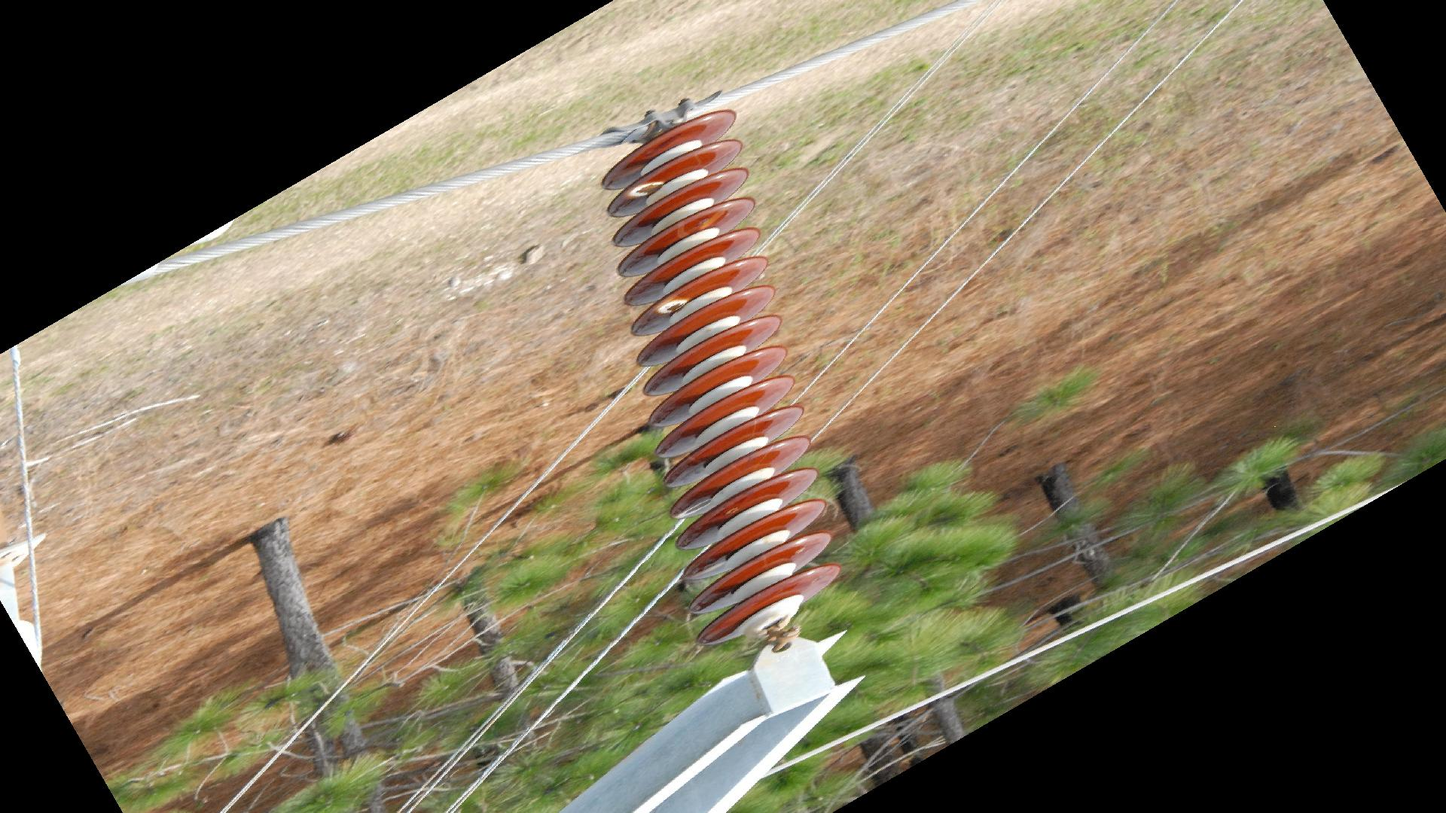insulator: (590, 103, 847, 656)
insulator_flashover: (673, 496, 712, 520), (627, 179, 667, 201), (654, 296, 690, 315)
